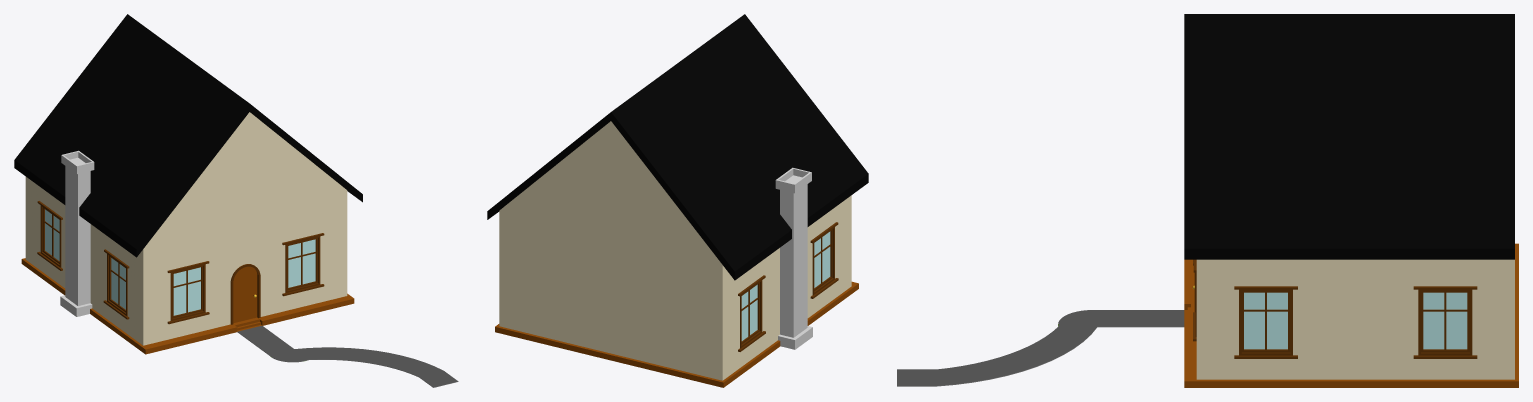
File: Residence_Bungalow.fbx
3 views of the same model, side by side, from view 1: azimuth 30°, elevation 25°; view 2: azimuth 150°, elevation 25°; view 3: azimuth 270°, elevation 25° (orthographic). The views are drawn at different scales.
Visible parts, largest first — view 1: Component_1_1; view 2: Component_1_1; view 3: Component_1_1.
Boxes of the visible parts, x1=… form: Component_1_1: x1=14, y1=14, x2=458, y2=387; Component_1_1: x1=487, y1=14, x2=868, y2=387; Component_1_1: x1=897, y1=14, x2=1518, y2=387.
Size of the model in its own units: 579 by 541 by 1000.
